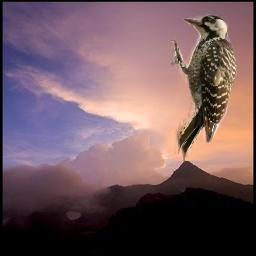Woodpecker: (169, 11, 238, 164)
